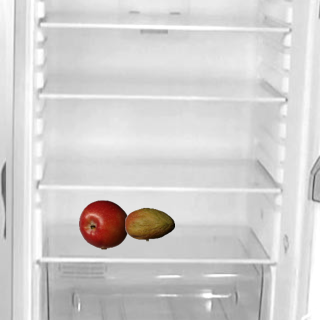Apple Braeburn: (78, 199, 128, 249)
Papaya: (124, 199, 174, 249)
